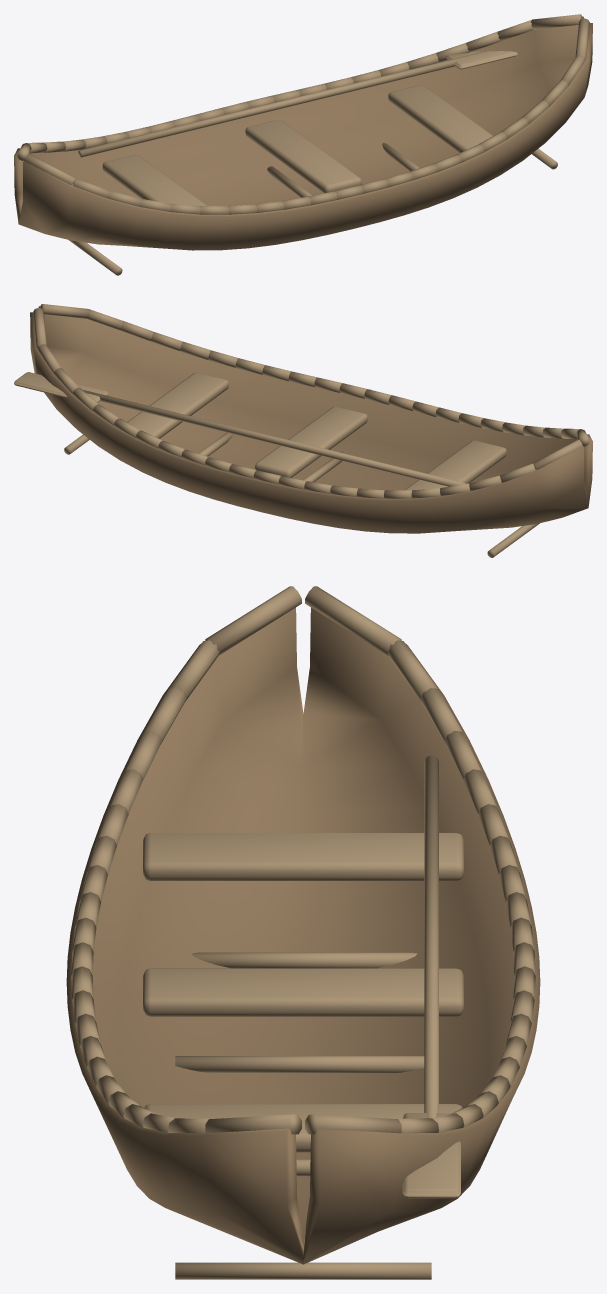
File: SM_Boat.fbx
The picture shows the model from 3 angles, top to bottom: view 1: azimuth 30°, elevation 25°; view 2: azimuth 150°, elevation 25°; view 3: azimuth 270°, elevation 25°; orthographic projection. The views are drawn at different scales.
Visible parts, largest first — view 1: SM_Boat; view 2: SM_Boat; view 3: SM_Boat.
Boxes of the visible parts, left/top/right/bottom form: SM_Boat: left=14, top=14, right=592, bottom=275; SM_Boat: left=14, top=304, right=592, bottom=557; SM_Boat: left=66, top=586, right=540, bottom=1279.
Bounding box in the file's own units: 419 × 155 × 93.84.
